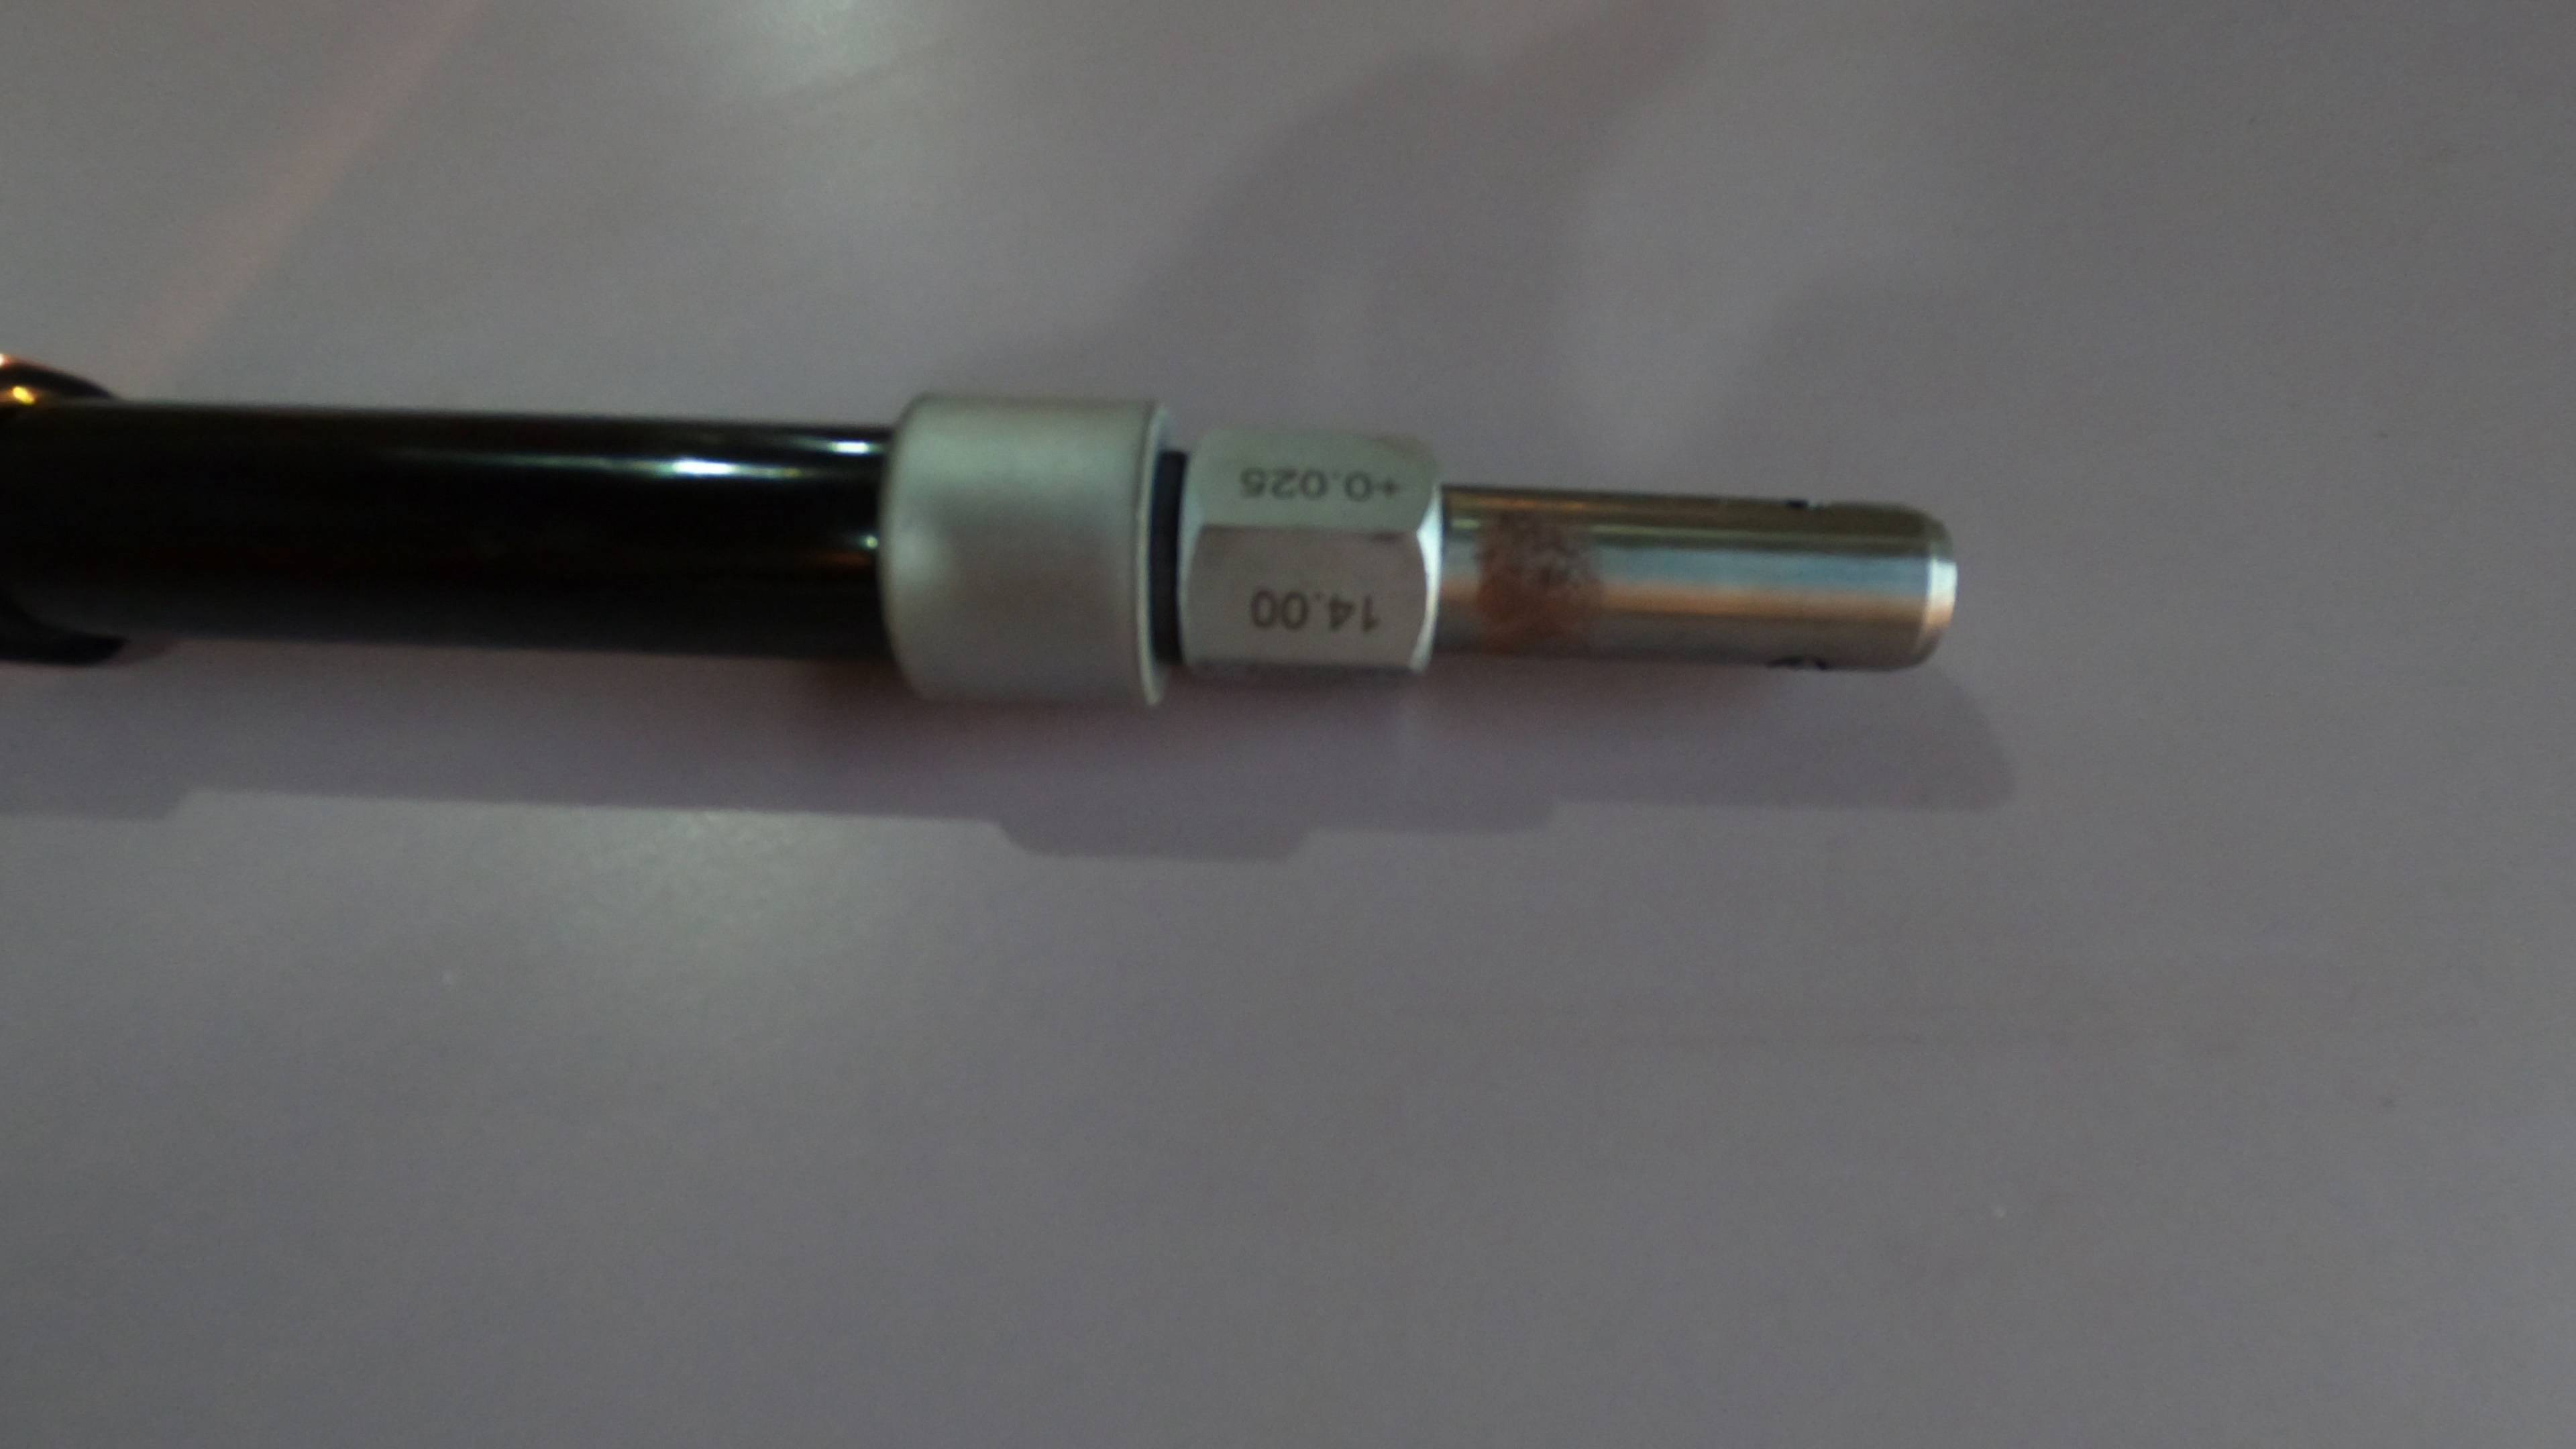air_gauge: (4, 347, 1974, 725)
